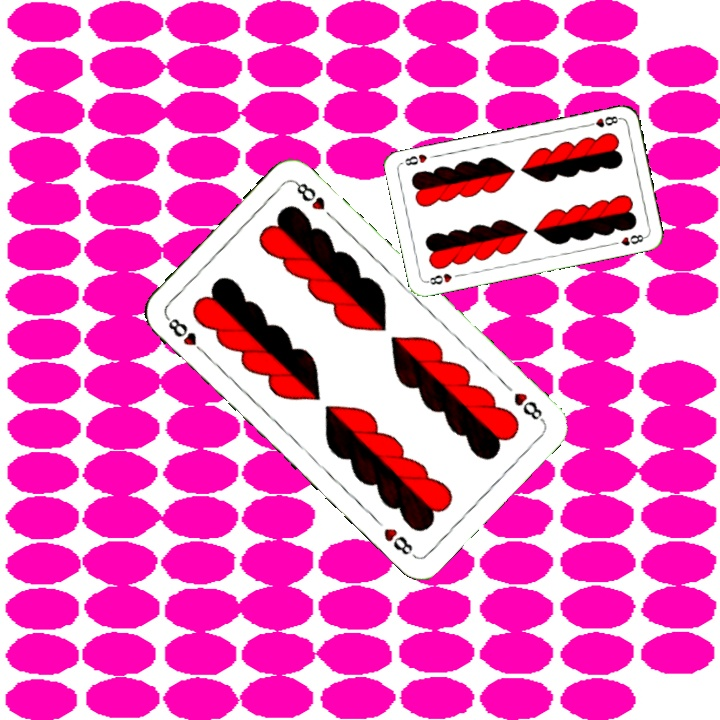H8: (162, 312, 209, 358), (510, 388, 547, 425), (583, 112, 623, 130), (423, 269, 455, 287)
